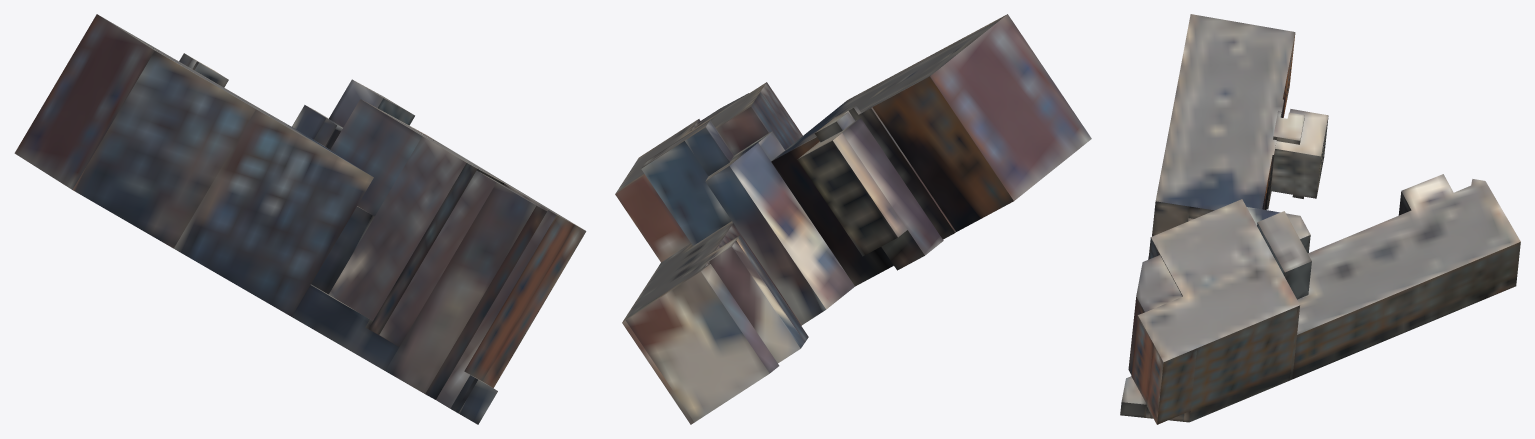
3 renders of one model, left to right at view 1: azimuth 30°, elevation 25°; view 2: azimuth 150°, elevation 25°; view 3: azimuth 270°, elevation 25°, orthographic. The views are drawn at different scales.
Visible parts, largest first — view 1: BAG_0599100000752498 (×6); view 2: BAG_0599100000752498 (×6); view 3: BAG_0599100000752498 (×5).
Part boxes in pixels (x1,y1,x2,y2): BAG_0599100000752498 (×6): [14, 14, 586, 424]; BAG_0599100000752498 (×6): [615, 14, 1091, 424]; BAG_0599100000752498 (×5): [1120, 14, 1520, 424].
Size of the model in its own units: 56.84 by 45.08 by 53.26.
Materials: 1 (1 with a texture image).
